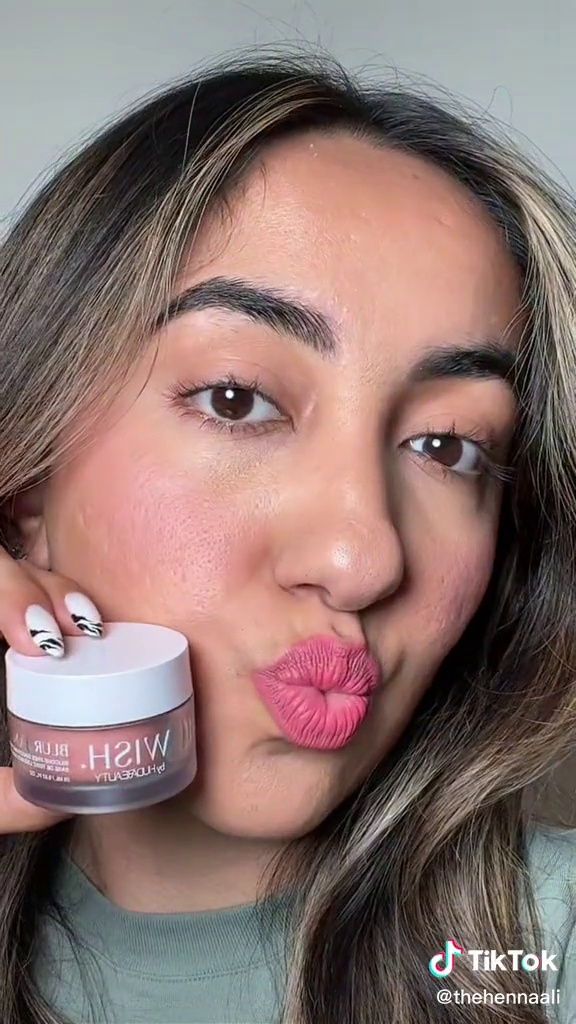train' :'yolo_data/train/images',: (2, 614, 205, 821)
